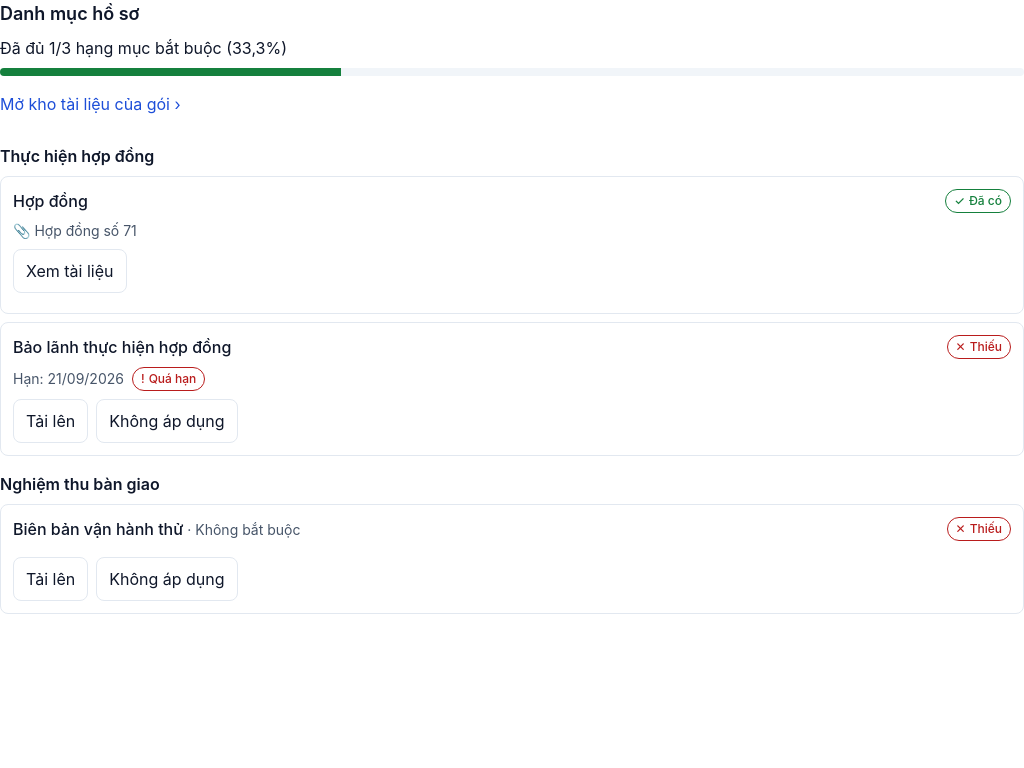
Test case: ChecklistTab › writers can mark an item not applicable and open the upload sheet for it
This screenshot has width=1024, height=768.
Click the button "Không áp dụng" below "Biên bản vận hành thử". click: [167, 579]
box: x1=96 y1=557 x2=238 y2=601
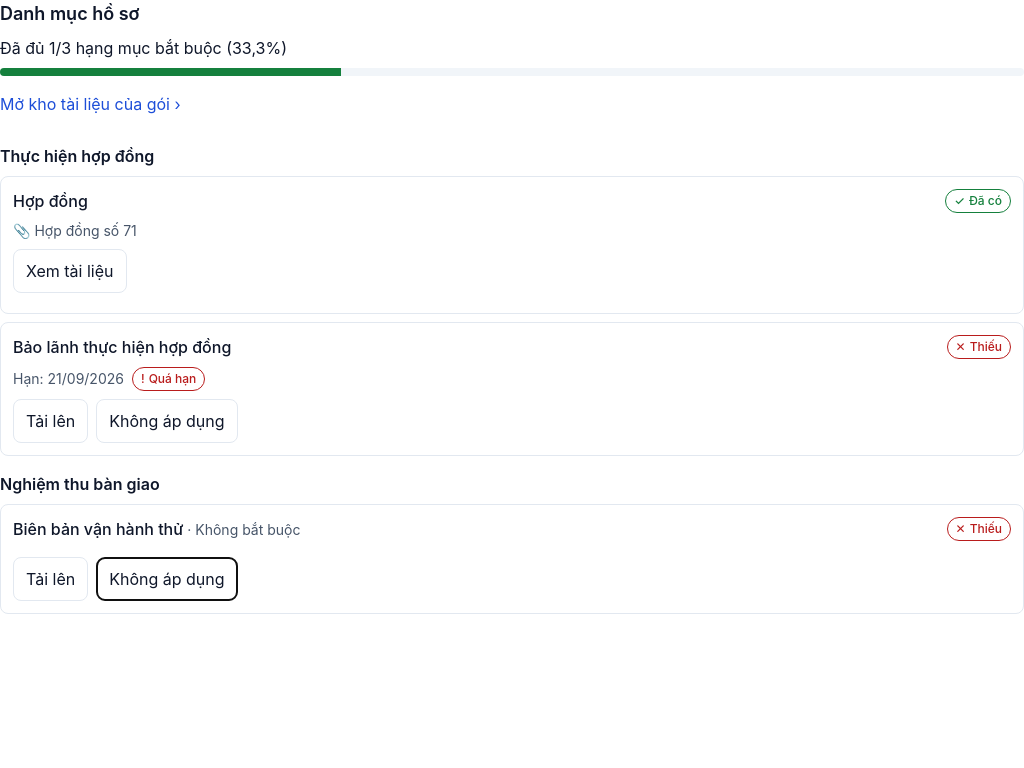
Click the button "Tải lên" below "Bảo lãnh thực hiện hợp đồng". click: [51, 421]
box: x1=13 y1=399 x2=88 y2=443
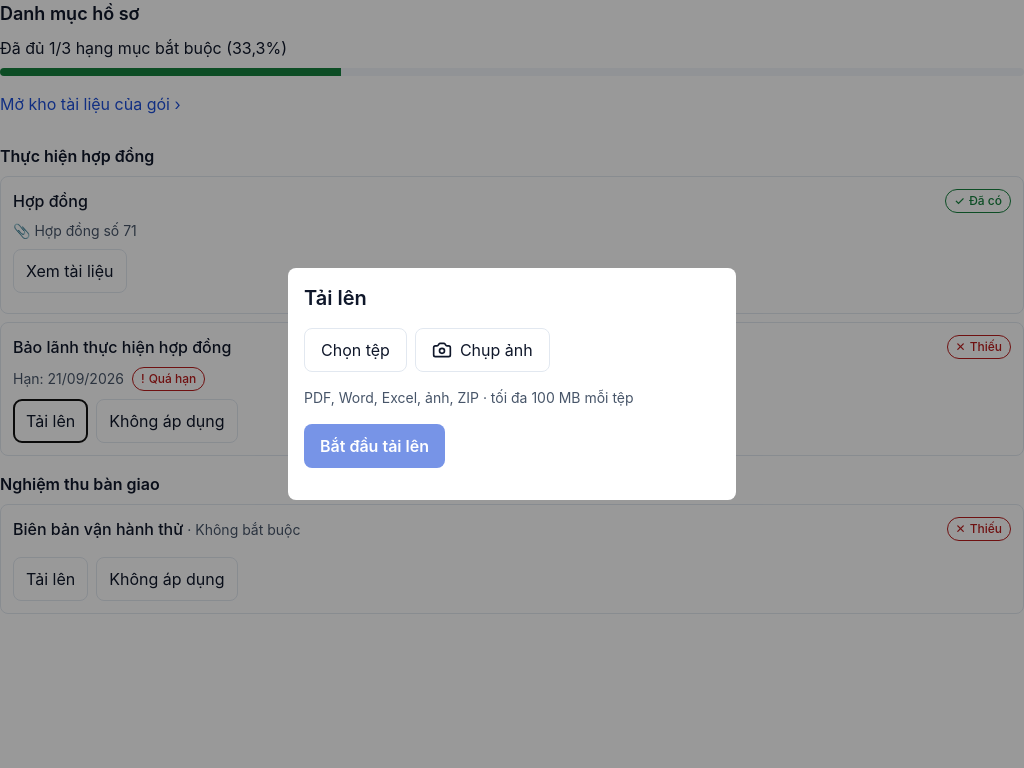
Result: the dialog "Tải lên" is shown
